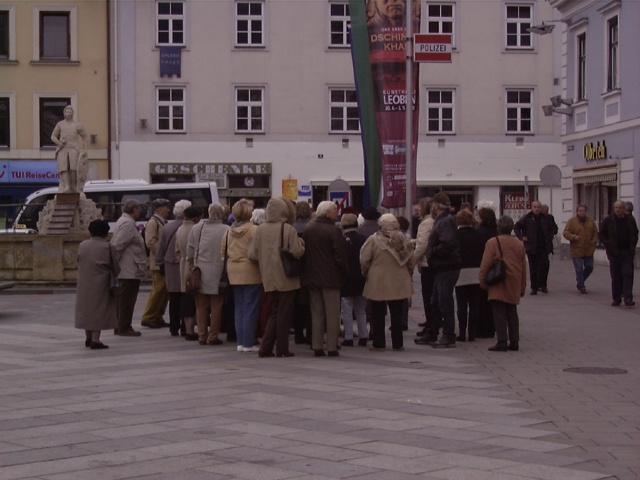person: (247, 197, 299, 355), (414, 195, 465, 351), (360, 210, 414, 351), (303, 197, 350, 354), (221, 203, 267, 351), (445, 206, 492, 345), (477, 218, 524, 350), (102, 195, 145, 338), (189, 201, 230, 344), (329, 212, 373, 343), (171, 196, 210, 342), (75, 218, 113, 351), (140, 197, 175, 330), (556, 198, 602, 295), (597, 196, 637, 307), (512, 195, 557, 292)
